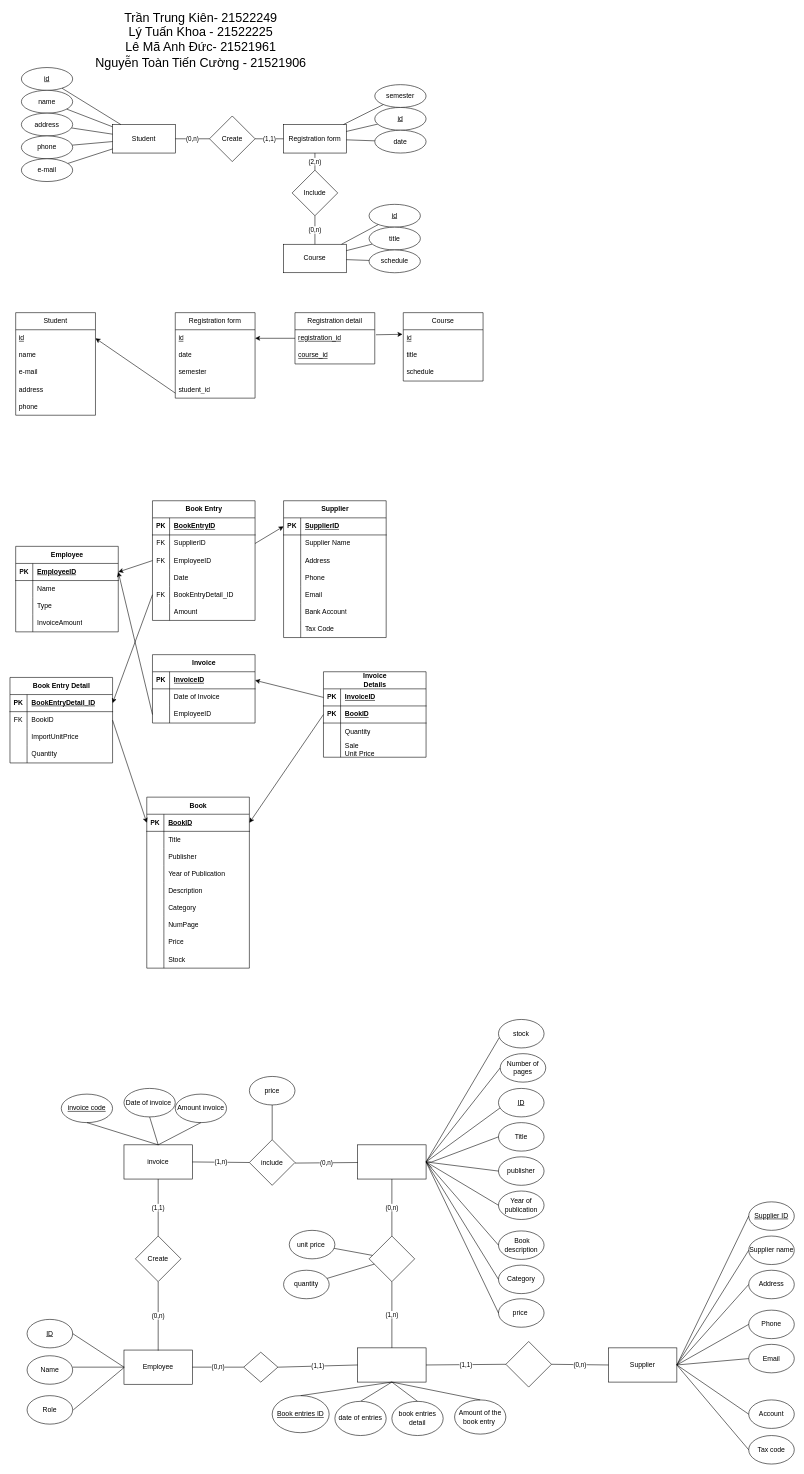
Some shapes in this 804 by 1474 pixel diagram are drawn without their labels. The shapes that lost their labels are listed below. From the top down, each one's centre as x and y in pixels, then its label:
At (391,1161): "Books".
At (392,1258): "import".
At (260,1367): "Update".
At (391,1364): "Book entries".
At (528,1364): "supply".
